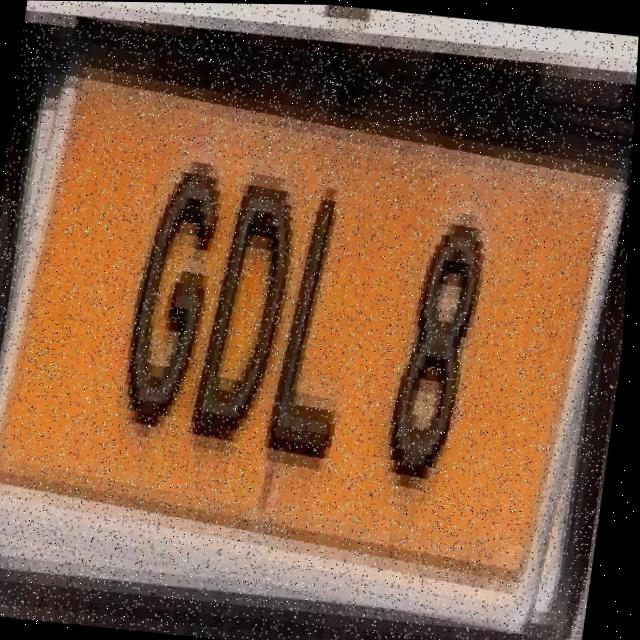LicensePlate: (0, 23, 639, 625)
